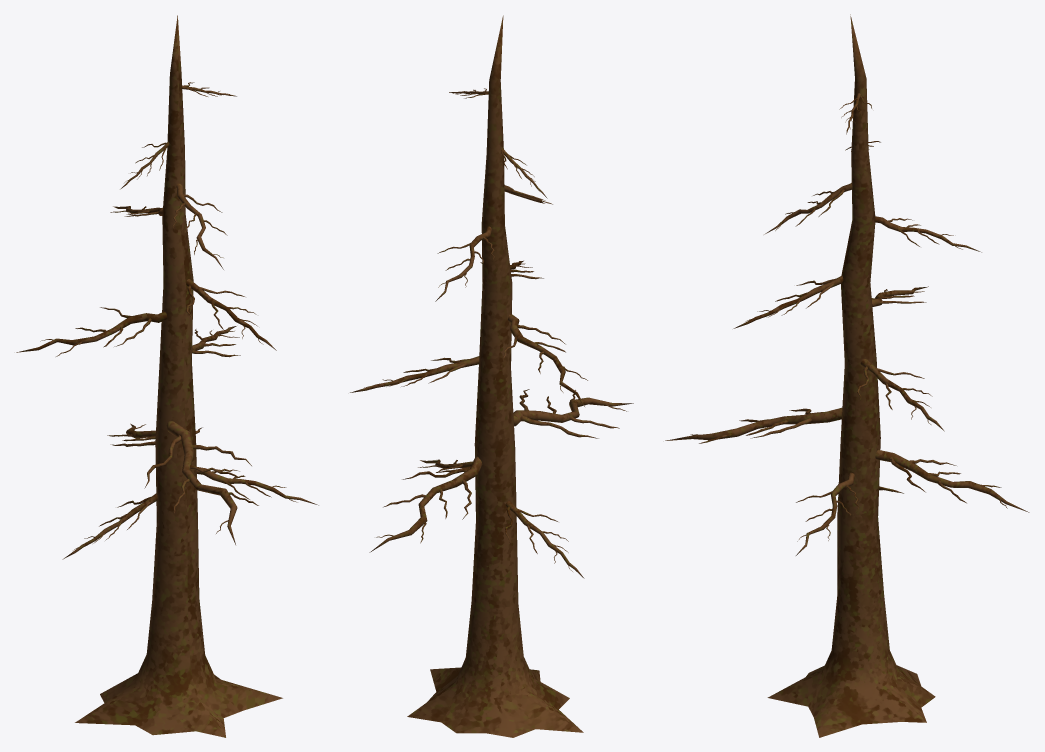
The model's file is Sm_PineTree4.fbx.
3 renders of one model, left to right at view 1: azimuth 30°, elevation 25°; view 2: azimuth 150°, elevation 25°; view 3: azimuth 270°, elevation 25°, orthographic.
Visible parts, largest first — view 1: Sm_PineTree4; view 2: Sm_PineTree4; view 3: Sm_PineTree4.
Part boxes in pixels (x1=…): Sm_PineTree4: x1=16, y1=15, x2=318, y2=737; Sm_PineTree4: x1=350, y1=15, x2=633, y2=737; Sm_PineTree4: x1=665, y1=14, x2=1029, y2=737.
Size of the model in its own units: 267 by 748 by 366.
